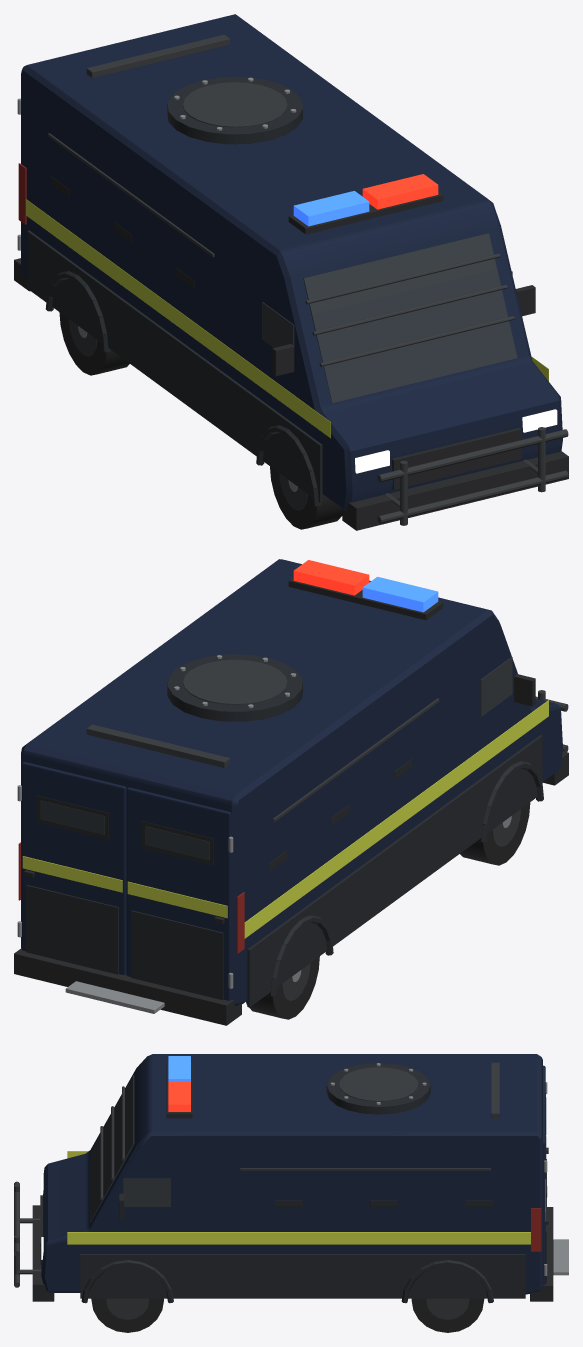
File: prop_turret_van.glb
3 views of the same model, one above another, from view 1: azimuth 30°, elevation 25°; view 2: azimuth 150°, elevation 25°; view 3: azimuth 270°, elevation 25° (orthographic). The views are drawn at different scales.
Visible parts, largest first — view 1: Body; view 2: Body, DoorRMesh, DoorLMesh; view 3: Body, DoorLMesh.
Boxes of the visible parts, x1,y1,x2,y2 form: Body: (14,14,568,530); Body: (14,559,568,1025); DoorRMesh: (126,787,233,1000); DoorLMesh: (17,762,126,974); Body: (14,1054,568,1332); DoorLMesh: (543,1104,548,1285).
Bounding box in the file's own units: 2.64 × 2.72 × 6.42.
